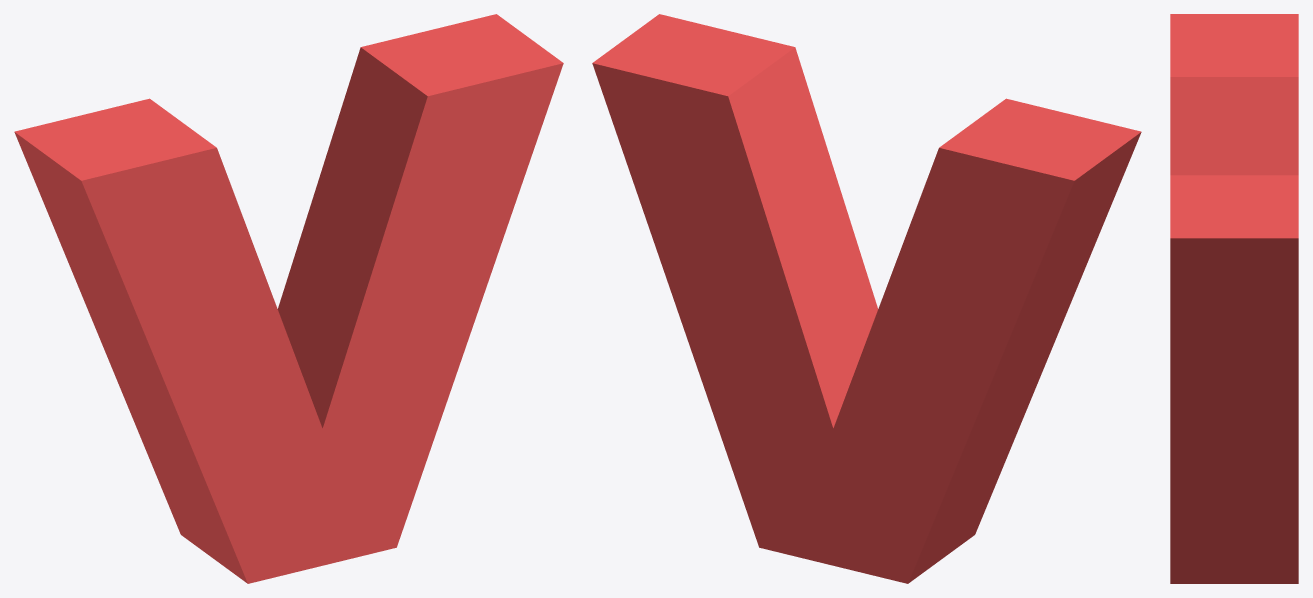
Rendered from huruf_kecil_v.glb.
3 views of the same model, side by side, from view 1: azimuth 30°, elevation 25°; view 2: azimuth 150°, elevation 25°; view 3: azimuth 270°, elevation 25° (orthographic). The views are drawn at different scales.
Parts seen in each view (by area): view 1: geometry_0; view 2: geometry_0; view 3: geometry_0.
Boxes of the visible parts, x1=… form: geometry_0: x1=14, y1=14, x2=563, y2=583; geometry_0: x1=592, y1=14, x2=1141, y2=583; geometry_0: x1=1170, y1=14, x2=1298, y2=583.
Bounding box in the file's own units: 6.22 × 5.47 × 1.5.
